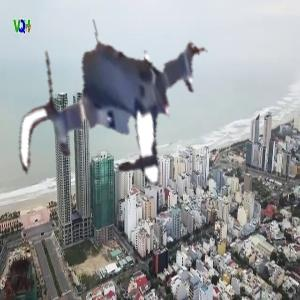drone: (8, 5, 224, 221)
